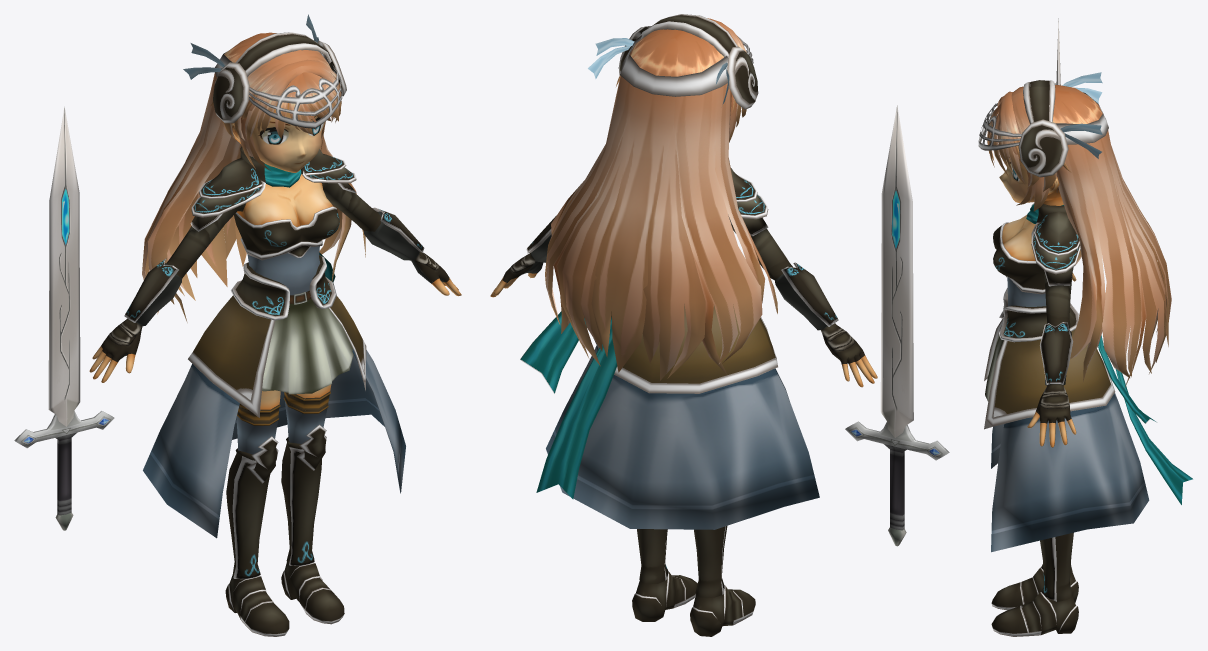
File: Helen.fbx
3 views of the same model, side by side, from view 1: azimuth 30°, elevation 25°; view 2: azimuth 150°, elevation 25°; view 3: azimuth 270°, elevation 25° (orthographic). The views are drawn at different scales.
Visible parts, largest first — view 1: body, weapon, fittings_2; view 2: body, weapon, fittings_2; view 3: body, fittings_2.
Boxes of the visible parts, x1=… form: body: x1=89, y1=14, x2=461, y2=636; weapon: x1=14, y1=106, x2=114, y2=530; fittings_2: x1=215, y1=51, x2=342, y2=128; body: x1=490, y1=14, x2=877, y2=636; weapon: x1=845, y1=105, x2=949, y2=546; fittings_2: x1=620, y1=31, x2=753, y2=96; body: x1=984, y1=72, x2=1192, y2=636; fittings_2: x1=978, y1=92, x2=1108, y2=150.
Bounding box in the file's own units: 157 × 196 × 71.75.
2 materials, 2 textured.
